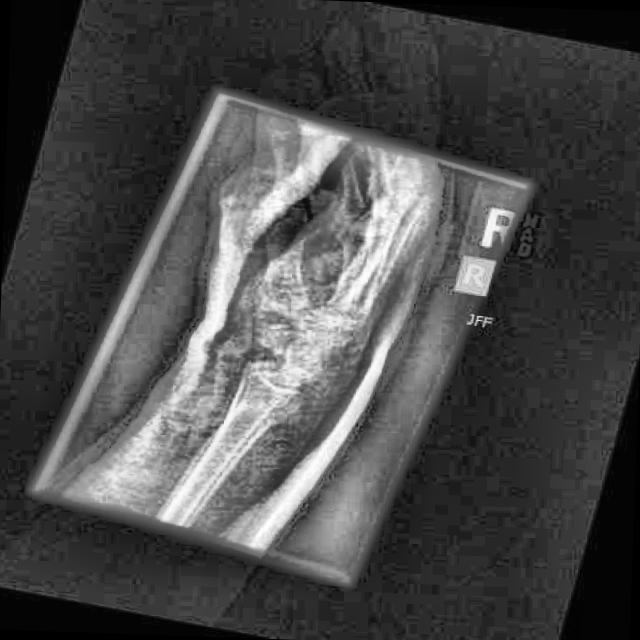wrist positive: (214, 385, 315, 442), (238, 311, 304, 340)
